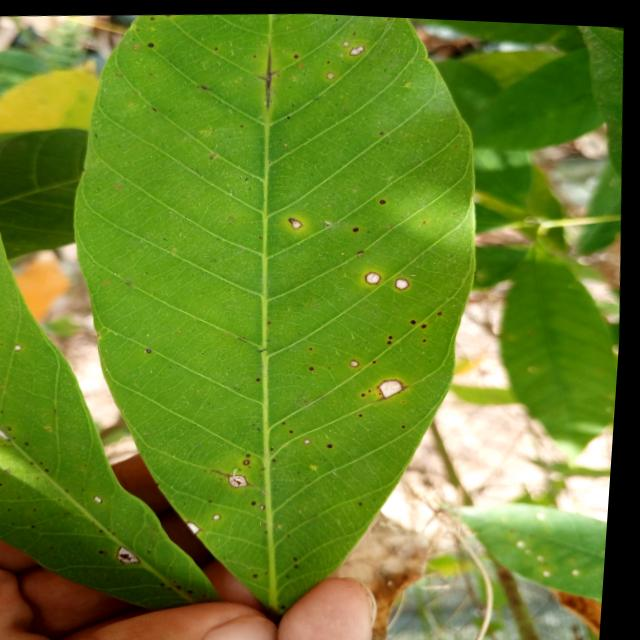Colletotrichum: (368, 268, 385, 281), (399, 273, 414, 287), (350, 42, 365, 53), (355, 356, 365, 365), (101, 494, 110, 502), (328, 70, 336, 77), (310, 436, 316, 442), (250, 458, 257, 463), (333, 440, 339, 445), (148, 42, 155, 46), (265, 503, 272, 507), (426, 320, 431, 325), (382, 197, 388, 201), (356, 224, 362, 228), (442, 307, 446, 312), (415, 316, 420, 320), (151, 348, 156, 352), (259, 498, 263, 503), (295, 52, 299, 56), (165, 13, 171, 15), (427, 335, 431, 338), (392, 338, 396, 341), (393, 332, 397, 335), (315, 364, 319, 367), (367, 390, 371, 393), (407, 421, 410, 425), (151, 17, 155, 19), (381, 129, 385, 131), (364, 411, 368, 413), (378, 357, 381, 359), (288, 419, 291, 421), (296, 428, 299, 430), (253, 452, 256, 454)
Corynespora: (256, 45, 282, 108)
